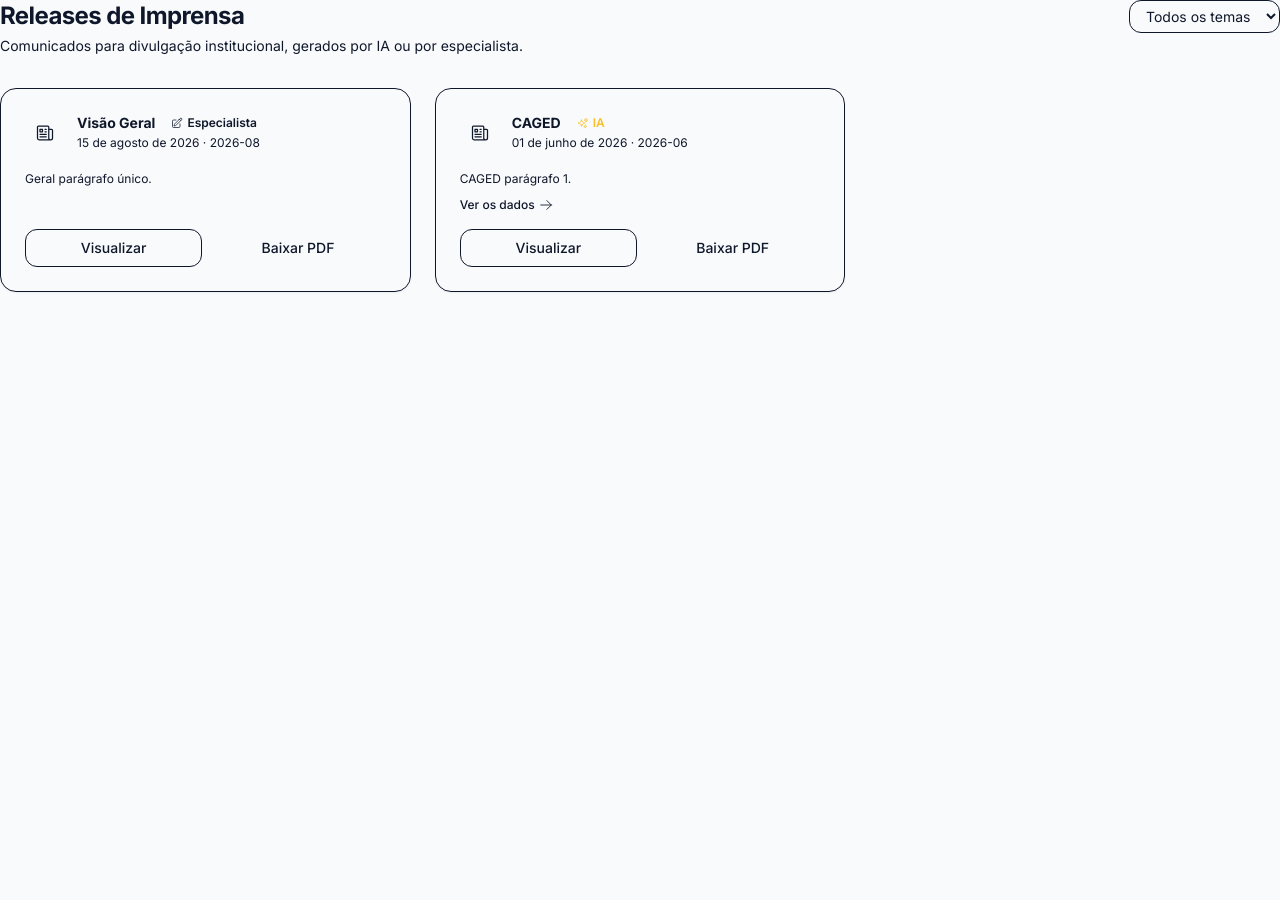
ReleasesPage — copiar texto no modal › sem navigator.clipboard, os botões de copiar não são renderizados
Click the button "Visualizar" below "Ver os dados".
click(548, 248)  # box [460, 228, 637, 266]
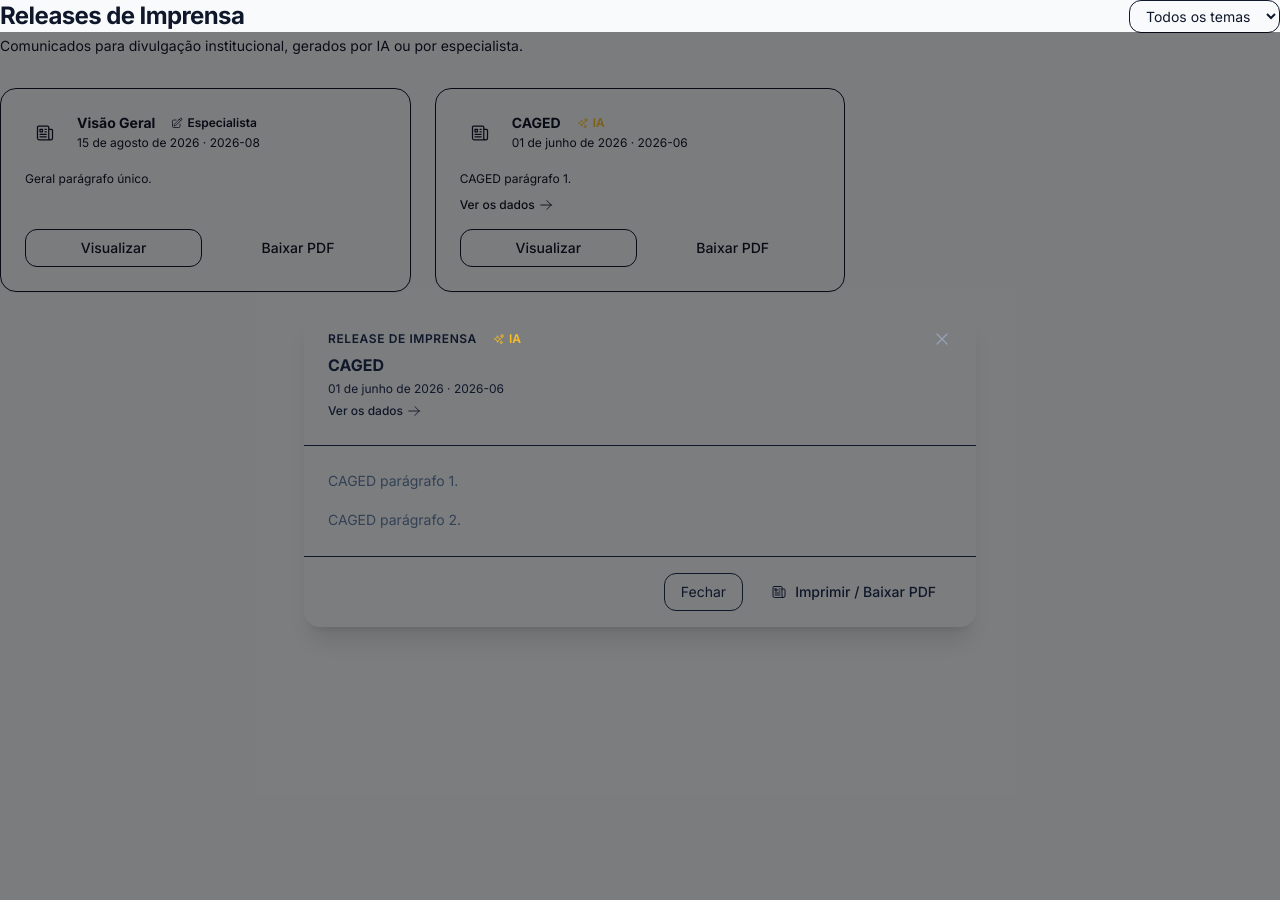
Expected: the text "CAGED parágrafo 2." is shown, [328, 511, 461, 528]
